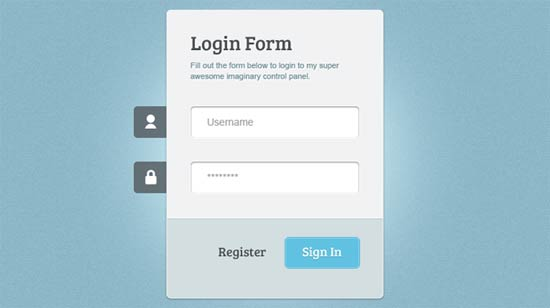button: (283, 236, 361, 270)
field: (190, 105, 360, 141), (189, 161, 361, 196)
